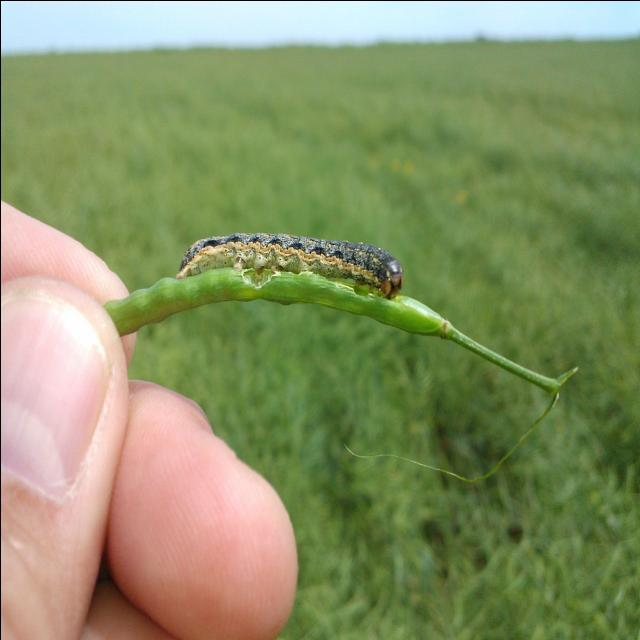cutworm: (165, 221, 411, 319)
